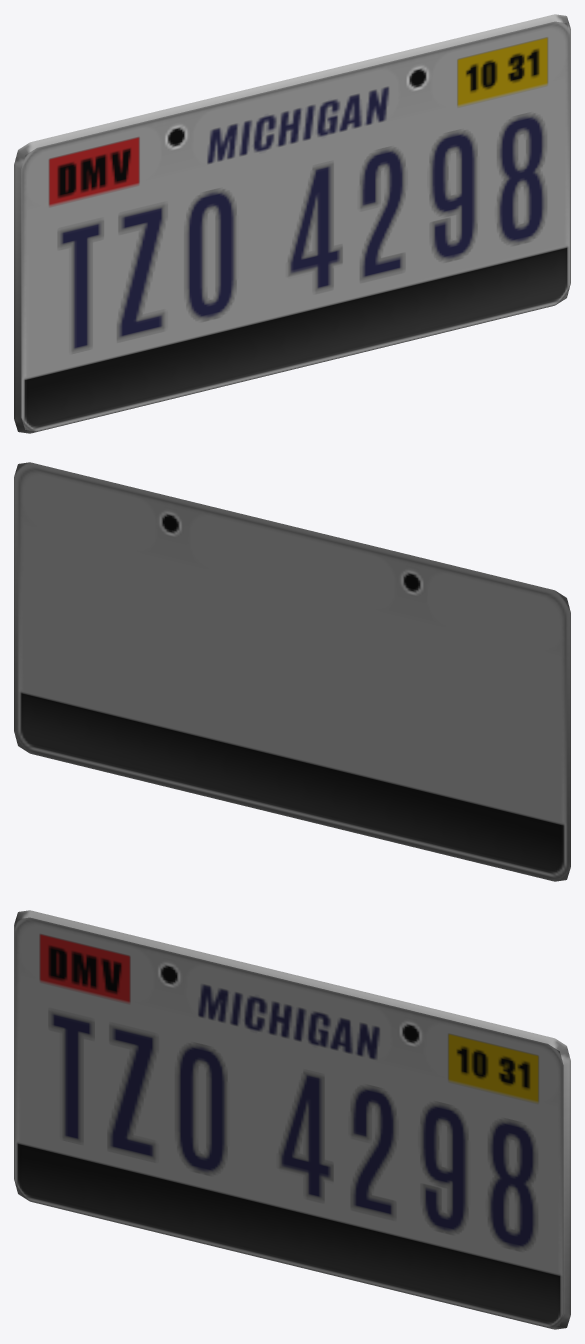
File: tozzo98_numberplate_front_numberplates_misk_u_0.003_lev3.glb
3 renders of one model, top to bottom at view 1: azimuth 30°, elevation 25°; view 2: azimuth 150°, elevation 25°; view 3: azimuth 330°, elevation 25°, orthographic.
Parts seen in each view (by area): view 1: tozzo98_numberplate_front_numberplates_misk_u_0.003_lev3; view 2: tozzo98_numberplate_front_numberplates_misk_u_0.003_lev3; view 3: tozzo98_numberplate_front_numberplates_misk_u_0.003_lev3.
Part boxes in pixels (x1,y1,x2,y2): tozzo98_numberplate_front_numberplates_misk_u_0.003_lev3: (14, 14, 570, 433); tozzo98_numberplate_front_numberplates_misk_u_0.003_lev3: (14, 462, 570, 881); tozzo98_numberplate_front_numberplates_misk_u_0.003_lev3: (14, 910, 570, 1329).
Size of the model in its own units: 0.3 by 0.15 by 0.00429.
1 material, 1 textured.
